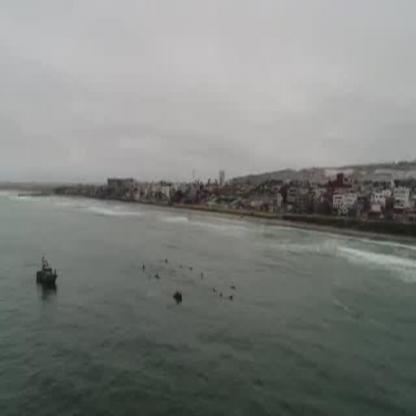Boat: (34, 253, 66, 300)
